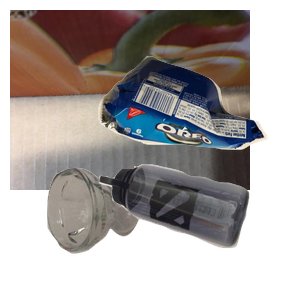cardboard: (10, 10, 250, 190)
glass: (44, 165, 178, 300)
plastic: (97, 162, 300, 300)
trash: (95, 53, 300, 195)
